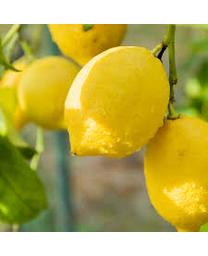lemon: (63, 44, 171, 157), (145, 116, 207, 231), (19, 57, 80, 132)
